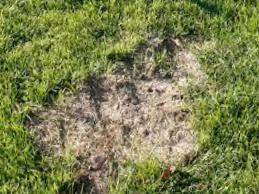patch: (116, 108, 185, 143), (127, 66, 188, 99), (67, 99, 107, 127), (69, 136, 104, 164)
